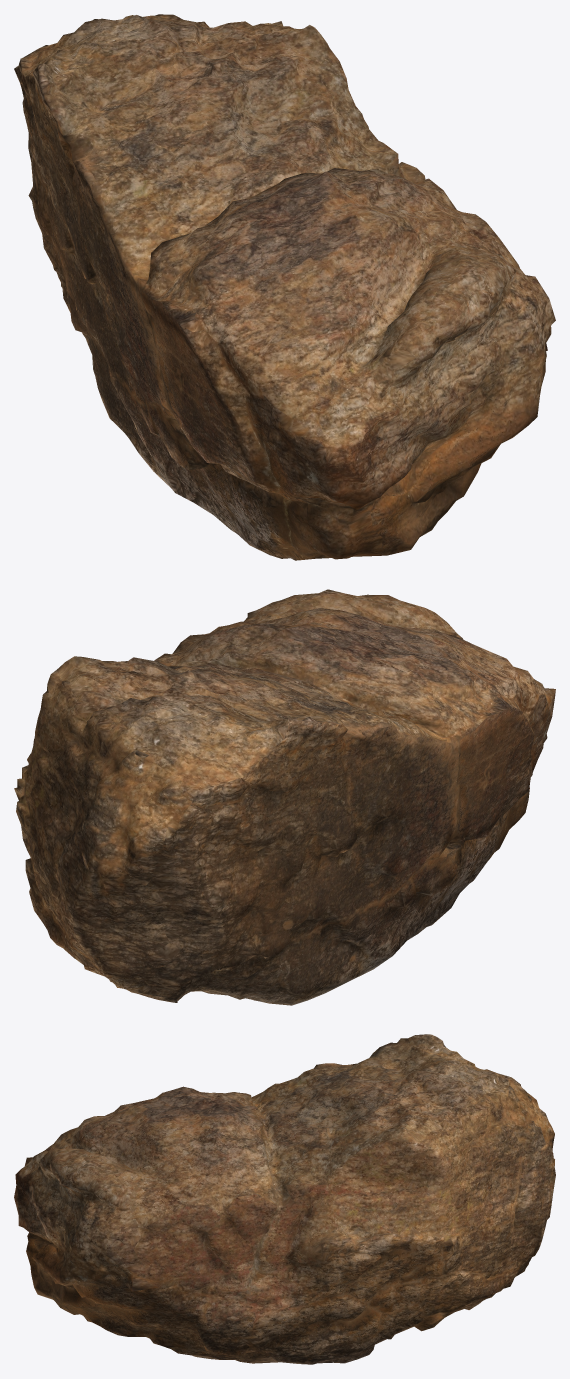
File: bg_boulder_06.glb
The picture shows the model from 3 angles, top to bottom: view 1: azimuth 30°, elevation 25°; view 2: azimuth 150°, elevation 25°; view 3: azimuth 270°, elevation 25°; orthographic projection. The views are drawn at different scales.
Visible parts, largest first — view 1: bg_boulder_06; view 2: bg_boulder_06; view 3: bg_boulder_06.
Boxes of the visible parts, bbox=[...] form: bg_boulder_06: bbox=[14, 14, 555, 560]; bg_boulder_06: bbox=[14, 589, 555, 1005]; bg_boulder_06: bbox=[14, 1034, 555, 1364].
Size of the model in its own units: 1.95 by 1.88 by 3.5.
1 material, 1 textured.
